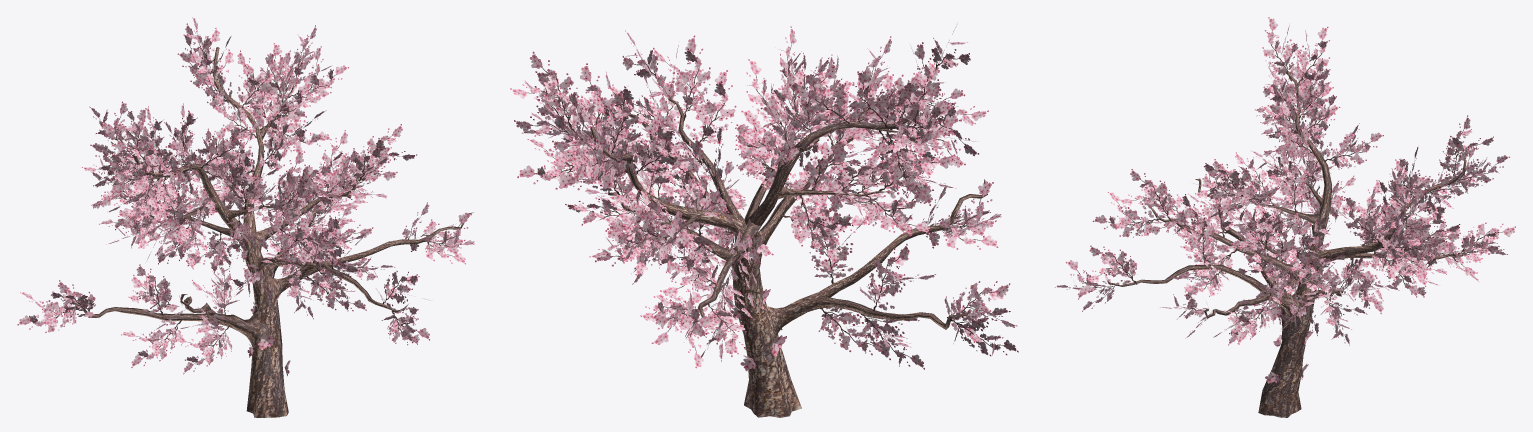
File: Sakura.gltf
The picture shows the model from 3 angles, left to right: view 1: azimuth 30°, elevation 25°; view 2: azimuth 150°, elevation 25°; view 3: azimuth 270°, elevation 25°; orthographic projection. The views are drawn at different scales.
Visible parts, largest first — view 1: Object002_sakura_branch_new01_1Mat_0, Object001_mossybark02_0Mat_0; view 2: Object002_sakura_branch_new01_1Mat_0, Object001_mossybark02_0Mat_0; view 3: Object002_sakura_branch_new01_1Mat_0, Object001_mossybark02_0Mat_0.
Part boxes in pixels (box(x1,y1,x2,y2)): Object002_sakura_branch_new01_1Mat_0: box(17, 17, 474, 376); Object001_mossybark02_0Mat_0: box(61, 47, 473, 417); Object002_sakura_branch_new01_1Mat_0: box(510, 26, 1018, 371); Object001_mossybark02_0Mat_0: box(566, 80, 987, 417); Object002_sakura_branch_new01_1Mat_0: box(1055, 17, 1515, 383); Object001_mossybark02_0Mat_0: box(1107, 70, 1466, 417).
Bounding box in the file's own units: 48.56 × 39.44 × 50.97.
Materials: 2 (2 with a texture image).
